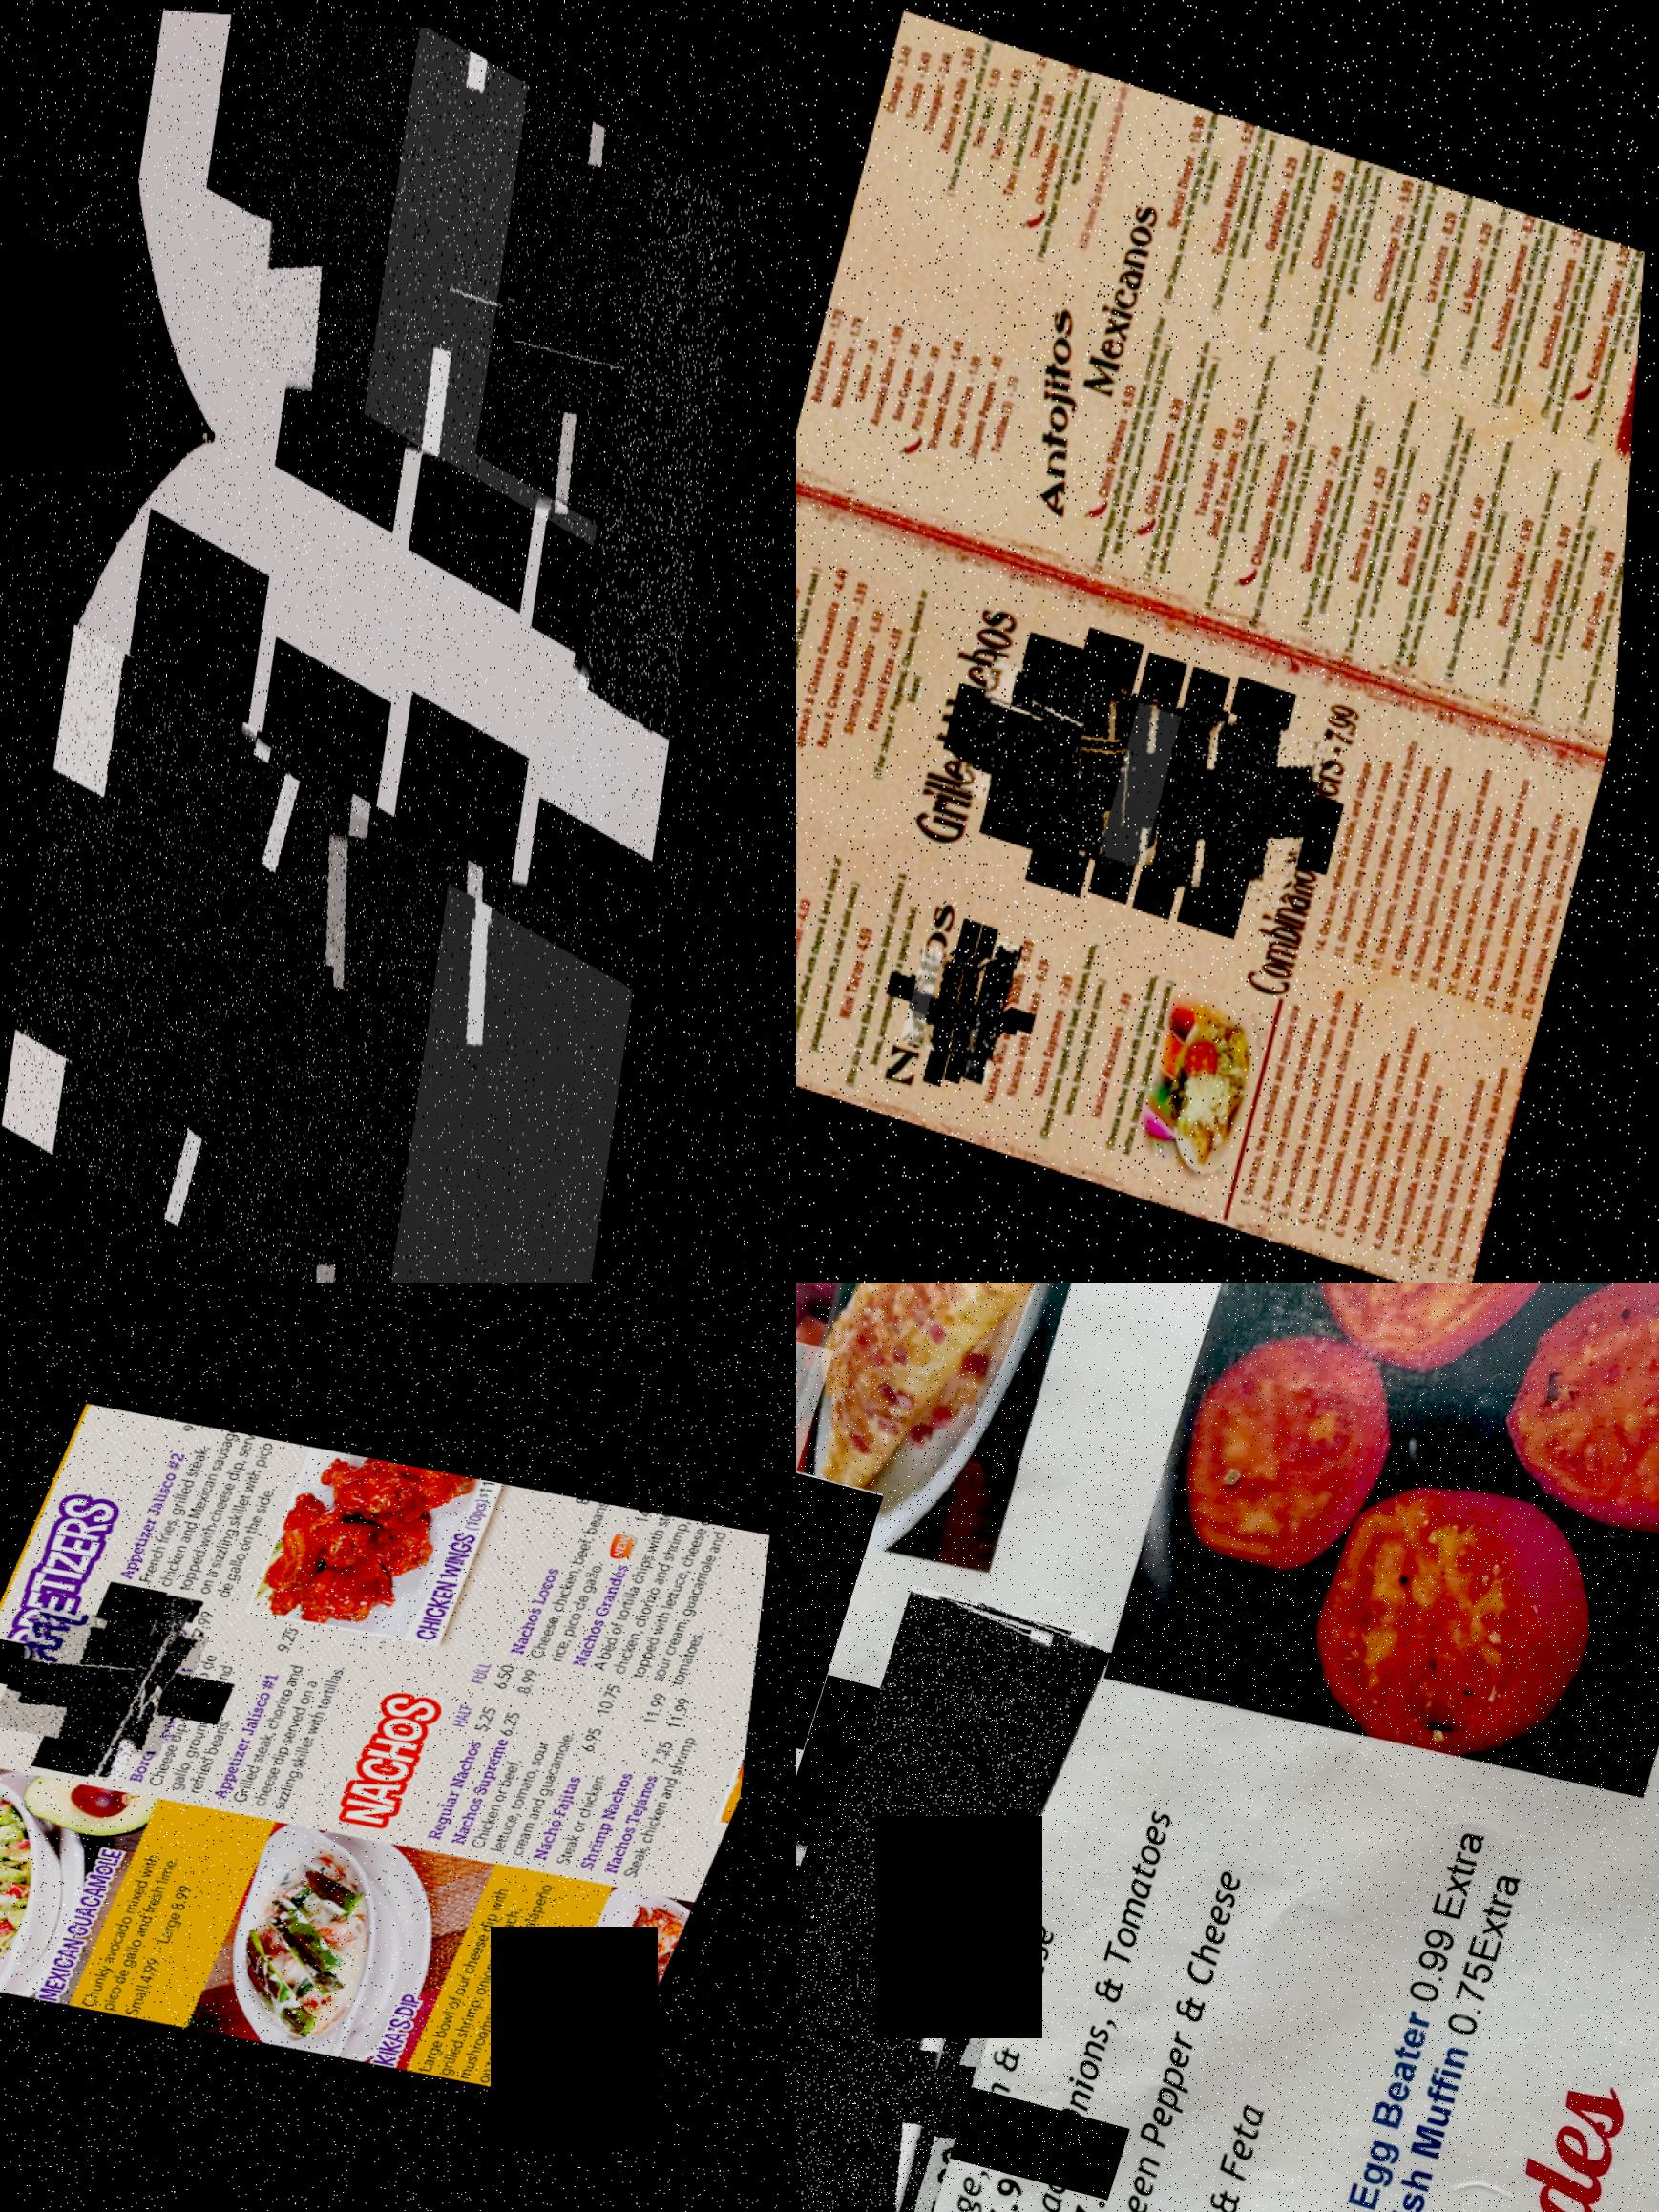Menu-Items: (7, 617, 329, 1264), (796, 1573, 1114, 2212), (124, 709, 457, 1282), (256, 763, 596, 1282), (362, 19, 655, 538), (227, 12, 525, 472), (911, 1770, 1216, 2212), (476, 75, 741, 563), (999, 1801, 1293, 2212), (796, 1775, 1063, 2212), (392, 871, 643, 1282), (582, 145, 749, 732), (836, 1869, 1100, 2212), (373, 1858, 605, 2085), (1006, 650, 1190, 869), (1155, 693, 1340, 911), (45, 1817, 237, 2020), (1075, 2059, 1309, 2212), (117, 1420, 308, 1606), (1176, 329, 1302, 611), (573, 1505, 763, 1686), (0, 1601, 221, 1756), (1232, 350, 1351, 639), (1377, 397, 1493, 688), (1073, 300, 1190, 589), (1514, 442, 1631, 728), (1065, 676, 1232, 873), (1112, 690, 1277, 887), (458, 1649, 615, 1857), (1429, 416, 1544, 691), (1126, 320, 1239, 599), (1333, 380, 1443, 662), (136, 1601, 289, 1797), (223, 1625, 376, 1815), (1284, 378, 1392, 639), (613, 1674, 735, 1885), (535, 1674, 666, 1869), (969, 651, 1115, 824), (1518, 218, 1622, 449), (1347, 165, 1450, 397), (1290, 146, 1396, 368), (1485, 444, 1575, 697), (511, 1493, 636, 1665), (1239, 129, 1335, 352), (1192, 113, 1288, 333), (101, 1592, 209, 1780), (1480, 206, 1570, 425), (429, 1656, 535, 1843), (1565, 460, 1636, 730), (1147, 99, 1237, 312), (586, 1683, 687, 1872), (1567, 233, 1649, 456), (1403, 181, 1483, 395), (1439, 192, 1521, 385), (915, 937, 1019, 1061), (936, 942, 1035, 1061), (979, 930, 1035, 1082)
